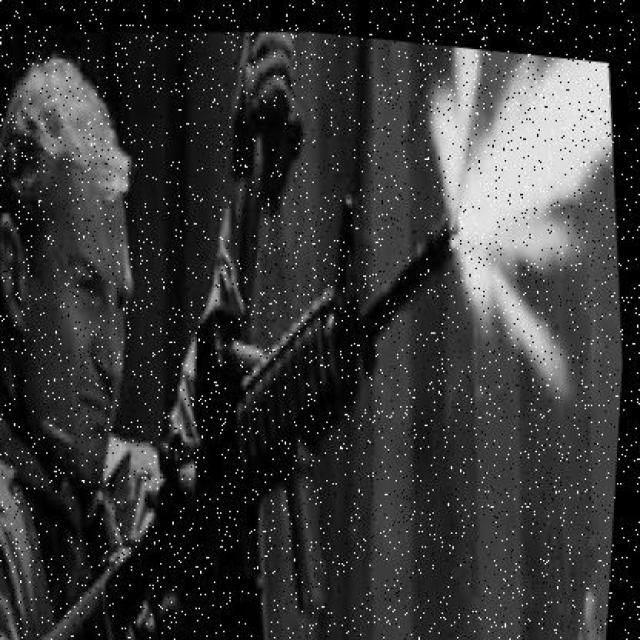weapon: (45, 191, 460, 638)
